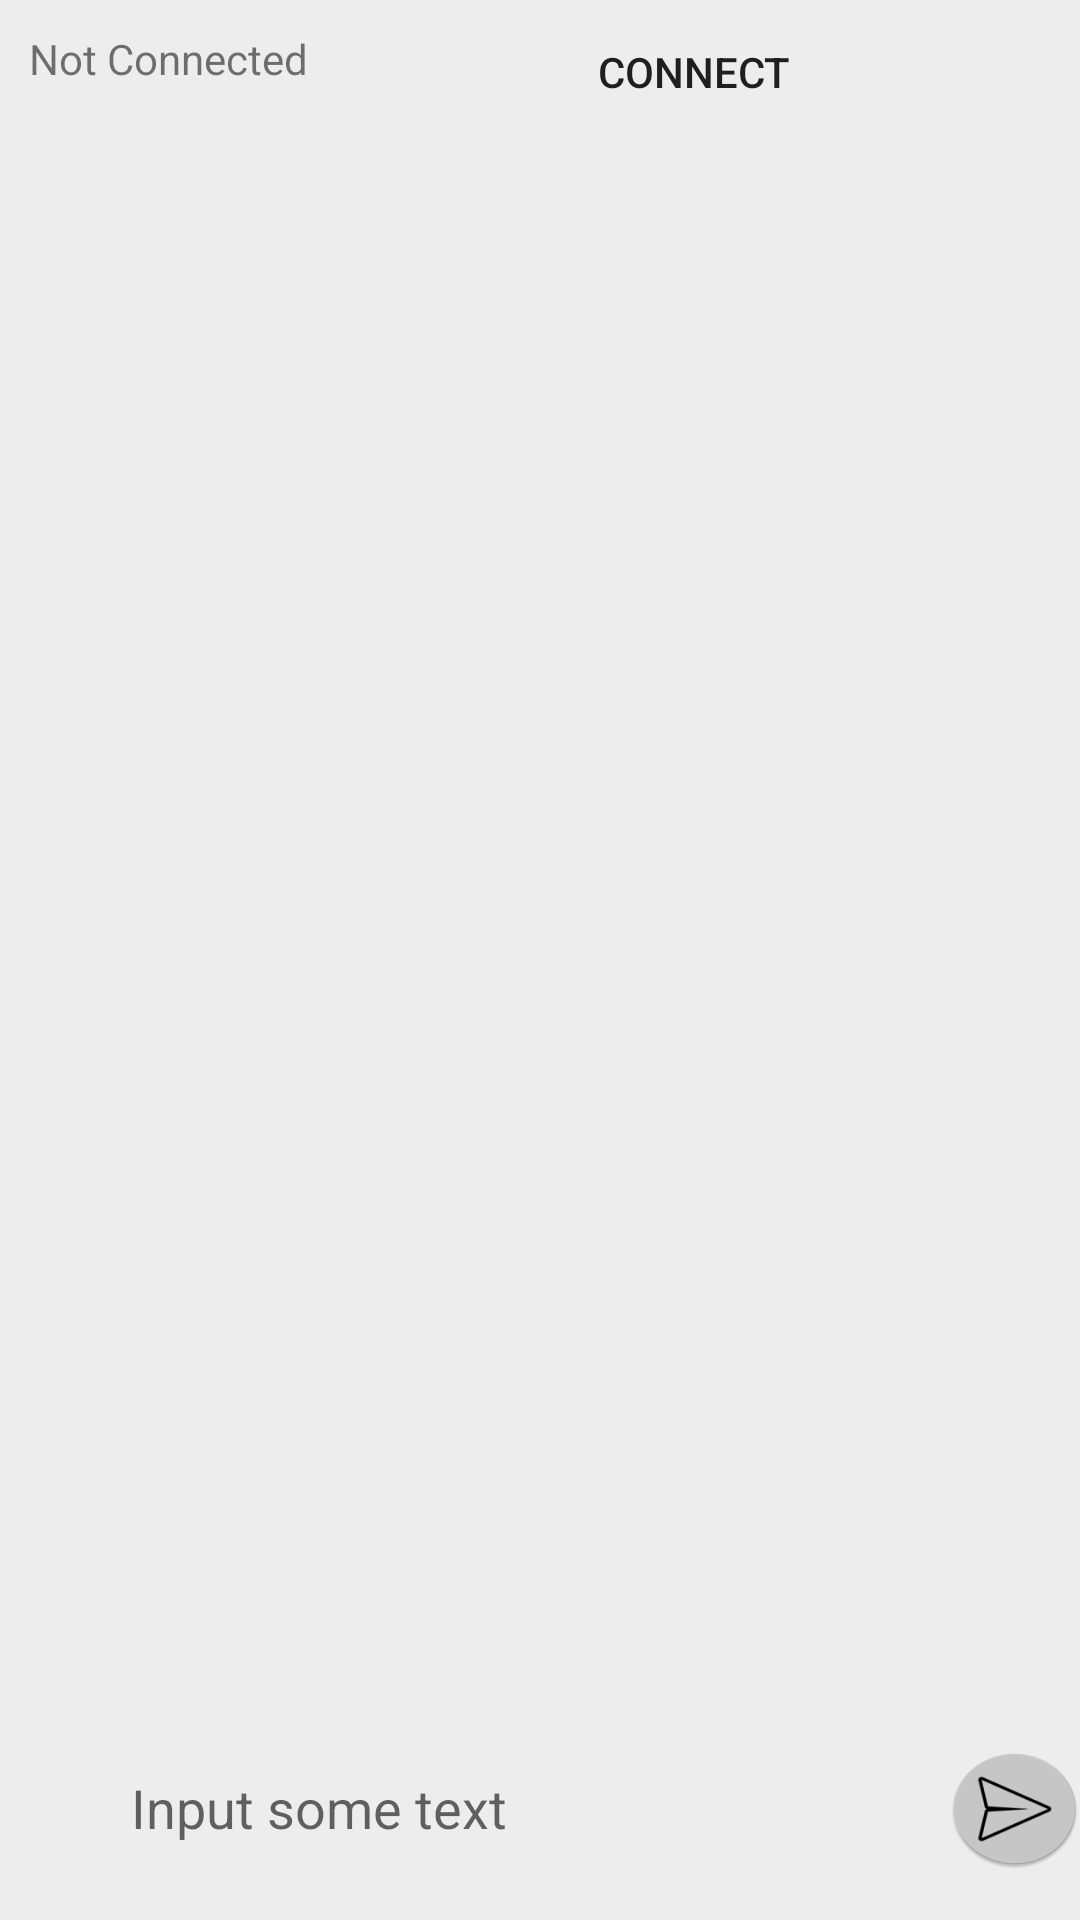

Locate icon controls on the screen. Image size 1080 x 1920, boxes as box=[x1, y1, x2, y2].
send round: box=[953, 1754, 1076, 1867]
